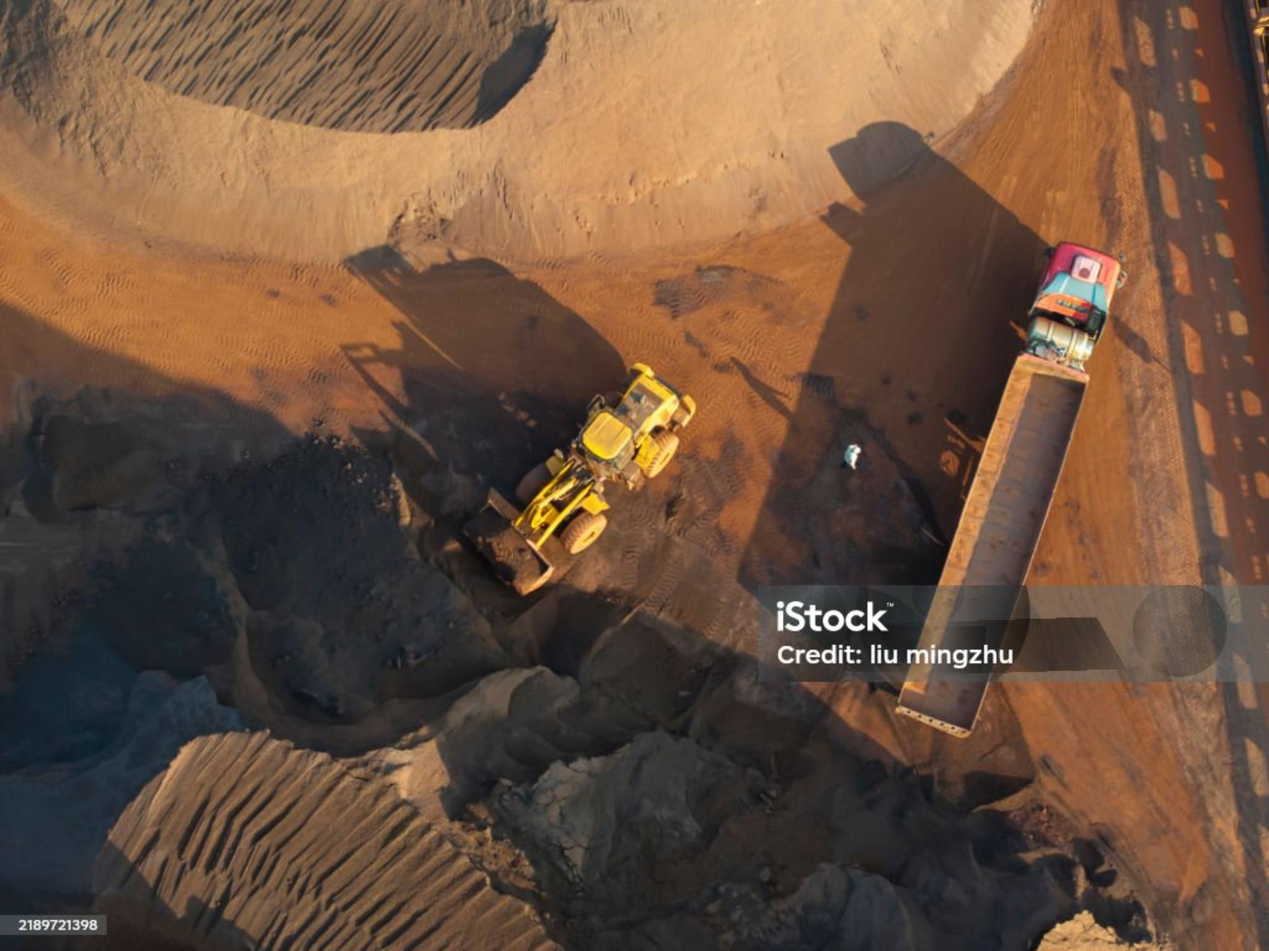excavator: (446, 362, 706, 620)
truck: (872, 248, 1130, 765)
